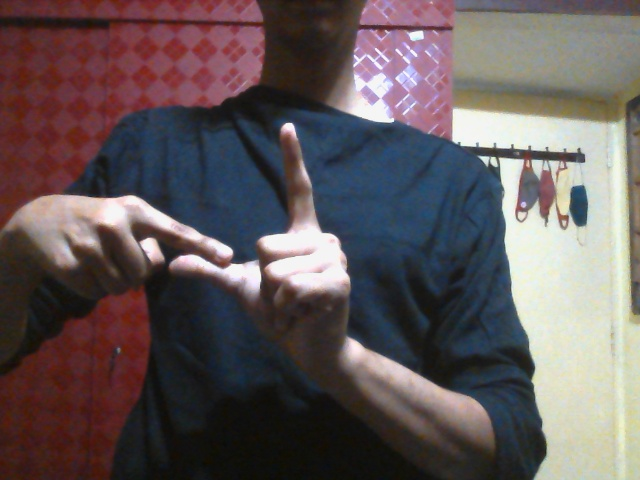J: (43, 119, 351, 335)
